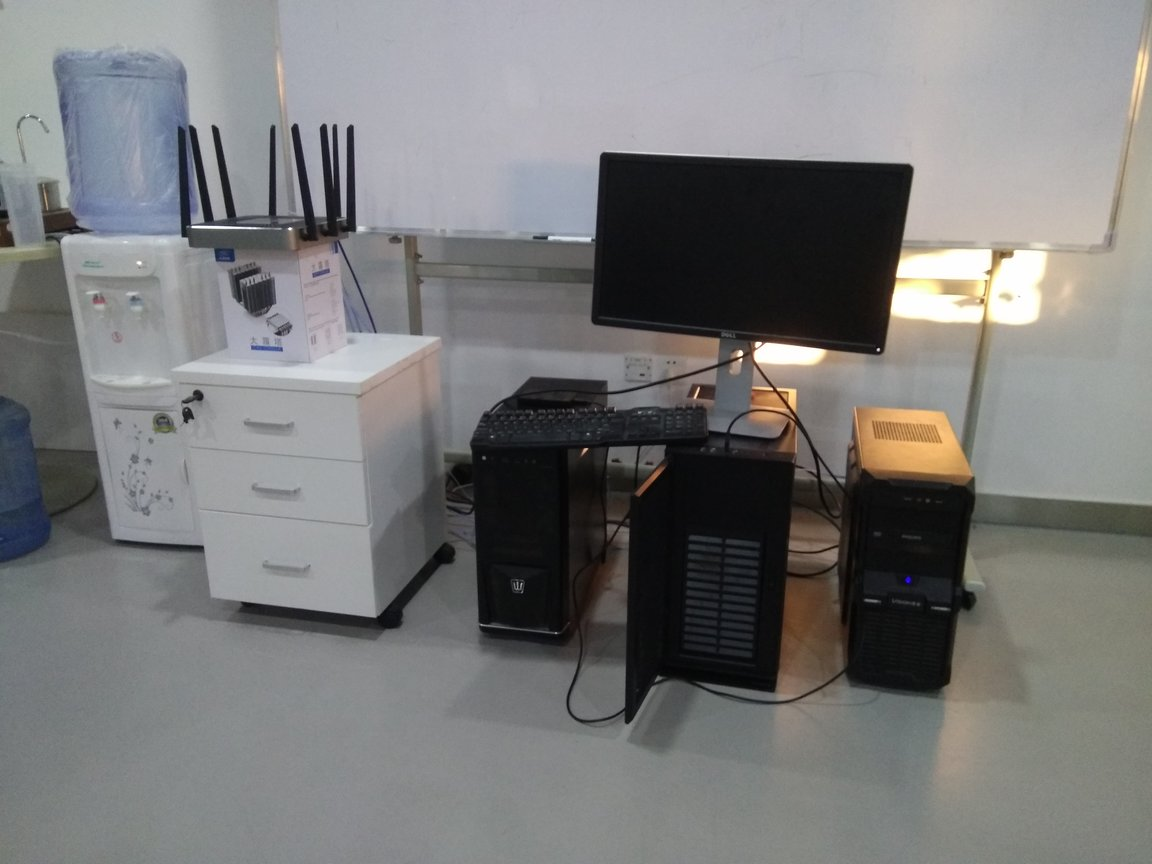computer: (638, 378, 802, 720), (468, 377, 614, 669), (841, 404, 977, 705)
drawer chest: (174, 332, 454, 637)
monitor: (588, 146, 913, 449)
scuttlebutt: (51, 43, 202, 232), (1, 385, 53, 570)
water dispenser: (56, 226, 239, 559)
